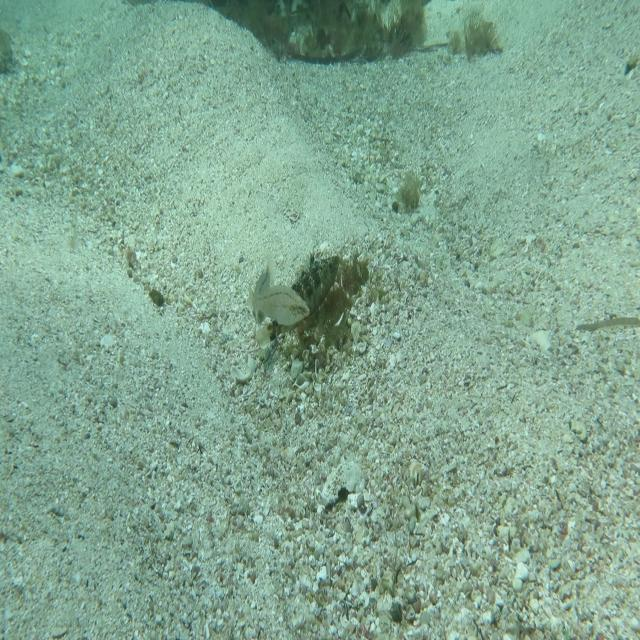ROLL: (250, 241, 342, 354)
female: (247, 250, 279, 330)
nest: (284, 242, 381, 362)
other_fish: (245, 277, 312, 328)
